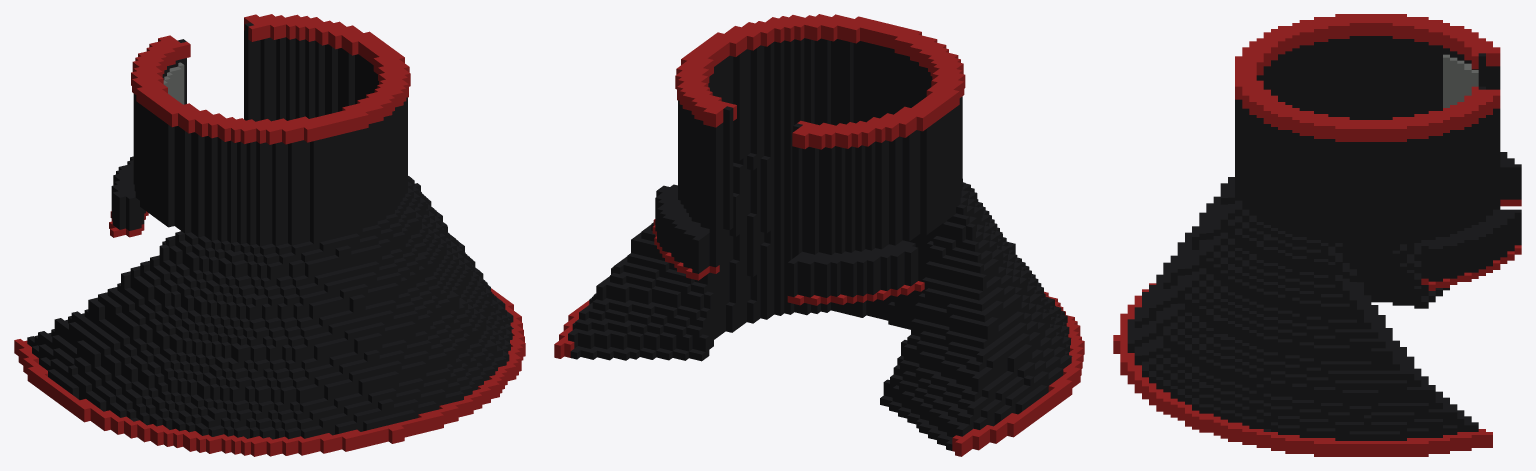
File: gorget_fencing.glb
The picture shows the model from 3 angles, left to right: view 1: azimuth 30°, elevation 25°; view 2: azimuth 150°, elevation 25°; view 3: azimuth 270°, elevation 25°; orthographic projection. The views are drawn at different scales.
Parts seen in each view (by area): view 1: gorget_fencing:compound; view 2: gorget_fencing:compound; view 3: gorget_fencing:compound.
Part boxes in pixels (x1,y1,x2,y2): gorget_fencing:compound: (14, 14, 525, 456); gorget_fencing:compound: (554, 14, 1084, 456); gorget_fencing:compound: (1113, 14, 1521, 456).
Size of the model in its own units: 0.28 by 0.172 by 0.228.
